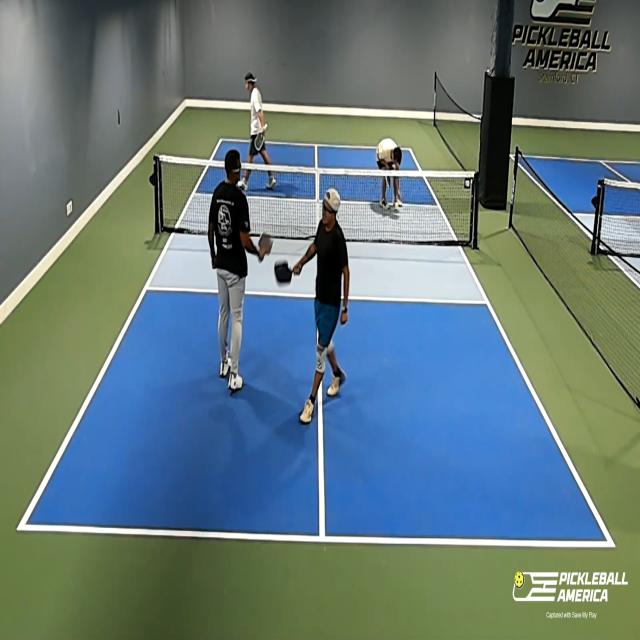Pickleball: (394, 200, 400, 212)
